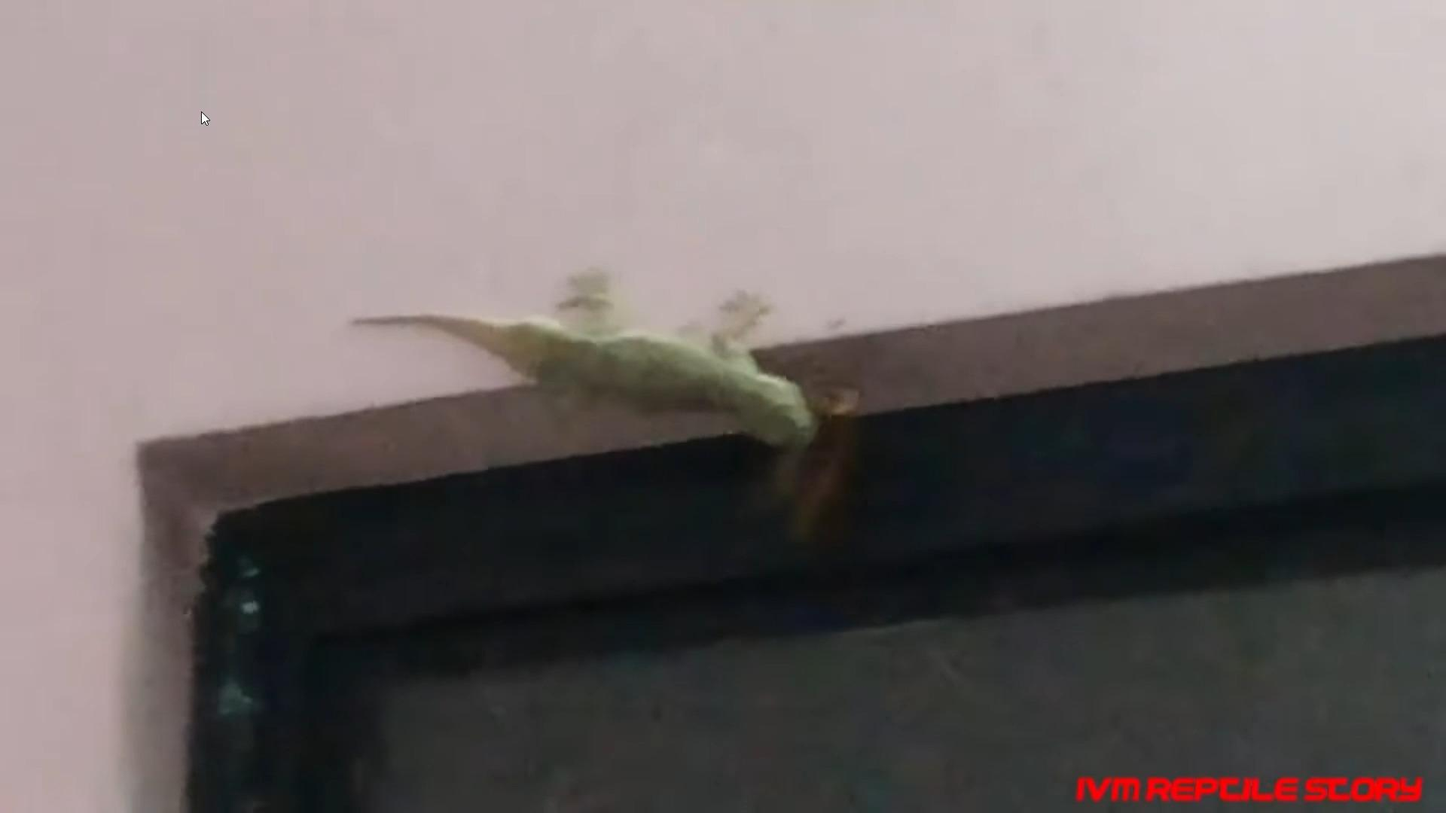cockroach: (769, 382, 866, 534)
lizard: (337, 252, 815, 467)
